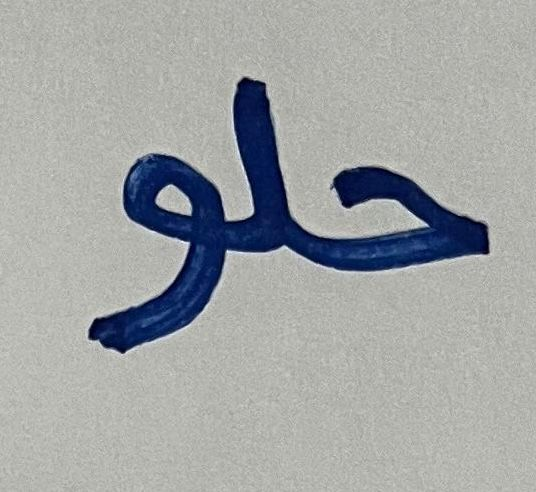hah: (307, 80, 512, 351)
lam: (229, 32, 301, 281)
waw: (61, 95, 227, 367)
